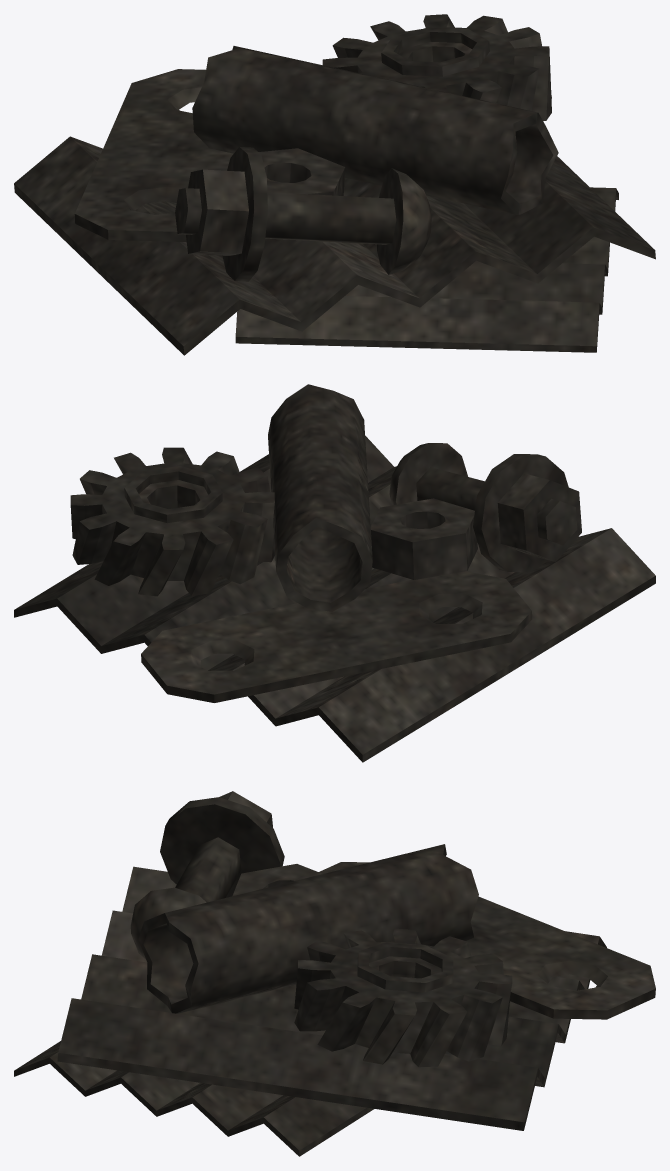
The model's file is scrap_metal_mx_1_1.obj.
3 views of the same model, one above another, from view 1: azimuth 30°, elevation 25°; view 2: azimuth 150°, elevation 25°; view 3: azimuth 270°, elevation 25° (orthographic). The views are drawn at different scales.
Visible parts, largest first — view 1: scrap_metal_mx_1_1; view 2: scrap_metal_mx_1_1; view 3: scrap_metal_mx_1_1.
Part boxes in pixels (x1,y1,x2,y2): scrap_metal_mx_1_1: (14, 14, 655, 355); scrap_metal_mx_1_1: (14, 384, 655, 762); scrap_metal_mx_1_1: (14, 791, 655, 1156).
Bounding box in the file's own units: 0.3174 × 0.106 × 0.3591.
